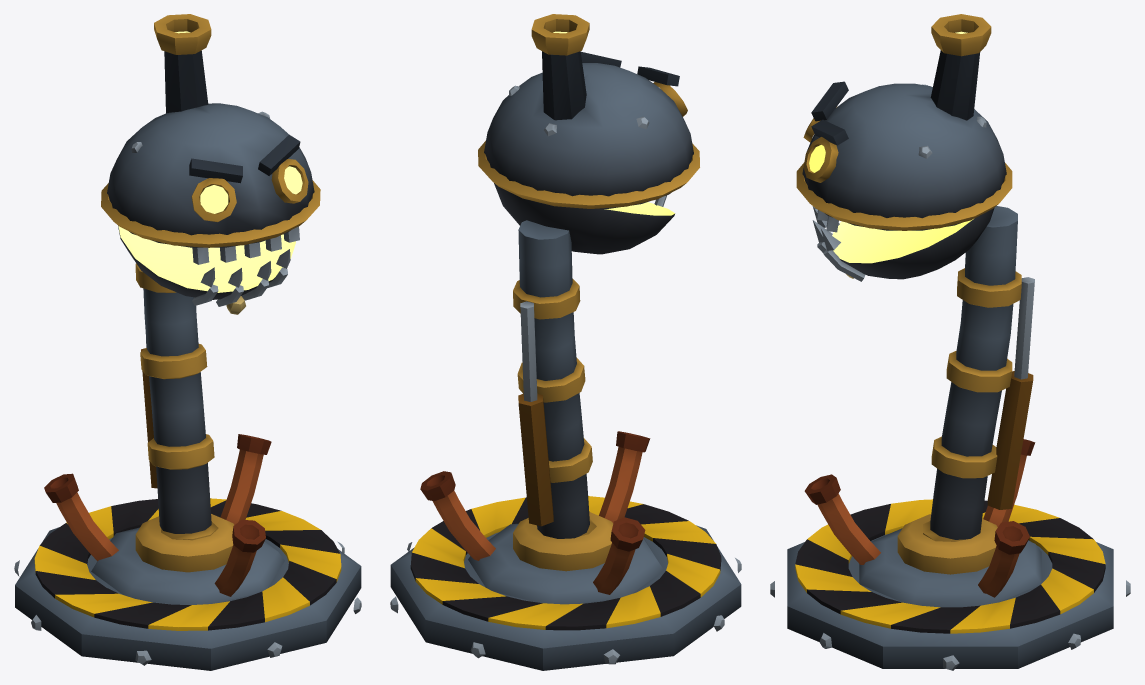
The model's file is plant_forge.glb.
3 renders of one model, left to right at view 1: azimuth 30°, elevation 25°; view 2: azimuth 150°, elevation 25°; view 3: azimuth 270°, elevation 25°, orthographic.
Visible parts, largest first — view 1: base, head, stem, jaw; view 2: base, head, stem, jaw; view 3: base, head, stem, jaw.
Part boxes in pixels (<box>): base: <box>14,434,361,670</box>; head: <box>101,14,320,264</box>; stem: <box>135,263,218,540</box>; jaw: <box>118,225,295,314</box>; base: <box>390,431,741,670</box>; head: <box>478,14,699,208</box>; stem: <box>513,220,596,538</box>; jaw: <box>494,183,675,254</box>; base: <box>770,439,1130,670</box>; head: <box>796,14,1012,232</box>; stem: <box>923,206,1034,541</box>; jaw: <box>812,206,994,281</box>.
Bounding box in the file's own units: 1.02 × 1.79 × 1.02.
